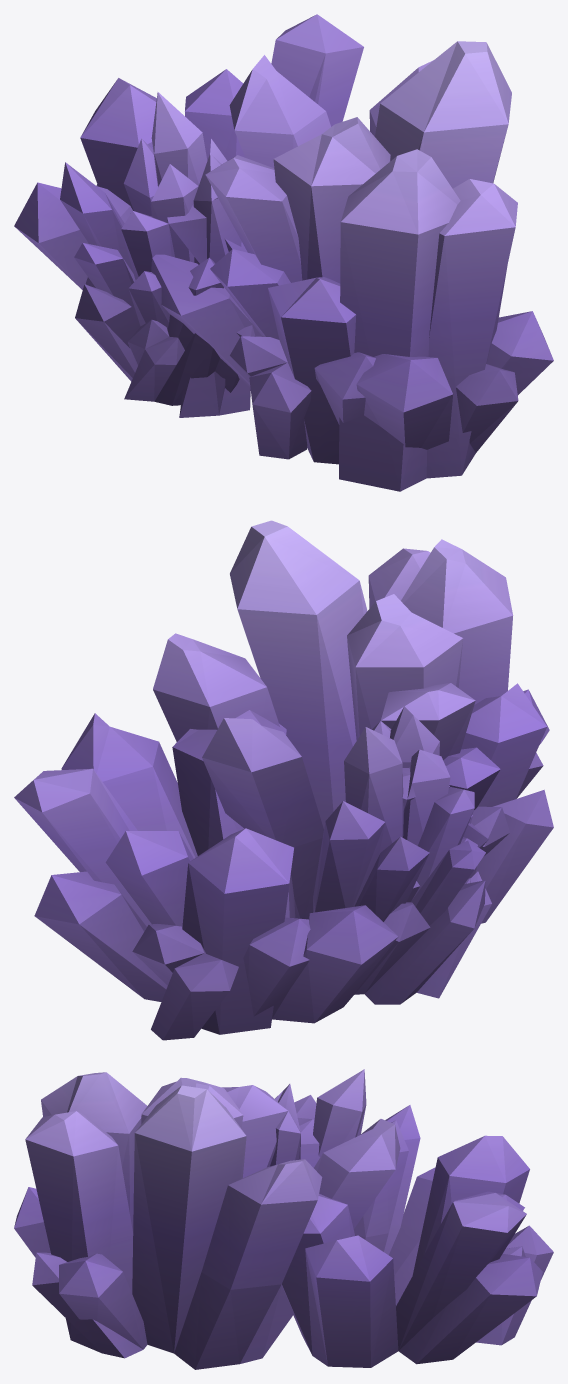
File: crystal_heap.glb
3 views of the same model, one above another, from view 1: azimuth 30°, elevation 25°; view 2: azimuth 150°, elevation 25°; view 3: azimuth 270°, elevation 25° (orthographic). The views are drawn at different scales.
Visible parts, largest first — view 1: Crystals_4_E; view 2: Crystals_4_E; view 3: Crystals_4_E.
Boxes of the visible parts, <box> form: Crystals_4_E: <box>14,14,553,491</box>; Crystals_4_E: <box>14,520,553,1040</box>; Crystals_4_E: <box>14,1069,553,1369</box>.
Bounding box in the file's own units: 1.68 × 1.4 × 2.42.
Materials: 1 (1 with a texture image).
